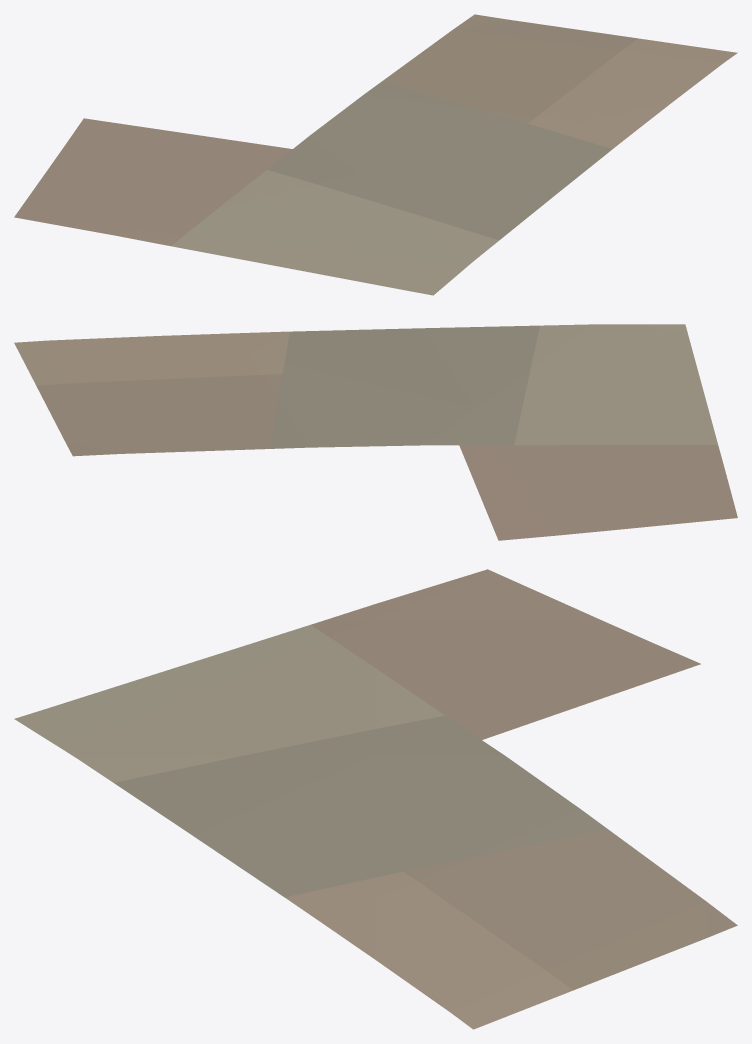
Rendered from farm_20_25_soil.glb.
3 views of the same model, one above another, from view 1: azimuth 30°, elevation 25°; view 2: azimuth 150°, elevation 25°; view 3: azimuth 270°, elevation 25° (orthographic). The views are drawn at different scales.
Visible parts, largest first — view 1: geometry_0; view 2: geometry_0; view 3: geometry_0.
Part boxes in pixels (x1,y1,x2,y2): geometry_0: (14, 14, 737, 295); geometry_0: (14, 324, 737, 540); geometry_0: (14, 569, 737, 1029).
Size of the model in its own units: 259 by 3.26 by 175.
